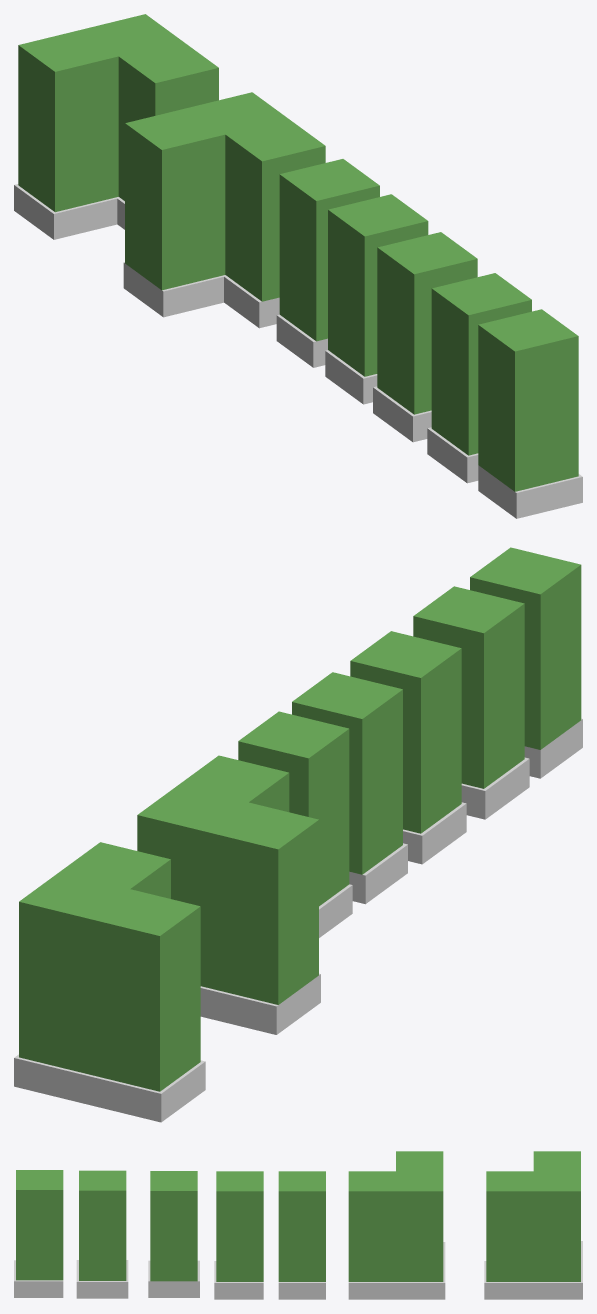
The model's file is resort_hedges_mods.fbx.
3 renders of one model, top to bottom at view 1: azimuth 30°, elevation 25°; view 2: azimuth 150°, elevation 25°; view 3: azimuth 270°, elevation 25°, orthographic. The views are drawn at different scales.
Visible parts, largest first — view 1: resort_hedge_mod_L, resort_hedge_mod_H, resort_hedge_mod_D, resort_hedge_mod_I, resort_hedge_mod_C, resort_hedge_mod_B, resort_hedge_mod_A; view 2: resort_hedge_mod_H, resort_hedge_mod_L, resort_hedge_mod_A, resort_hedge_mod_I, resort_hedge_mod_D, resort_hedge_mod_C, resort_hedge_mod_B; view 3: resort_hedge_mod_L, resort_hedge_mod_H, resort_hedge_mod_A, resort_hedge_mod_C, resort_hedge_mod_I, resort_hedge_mod_D, resort_hedge_mod_B.
Part boxes in pixels (x1,y1,x2,y2): resort_hedge_mod_L: (123, 92, 325, 328); resort_hedge_mod_H: (14, 14, 218, 239); resort_hedge_mod_D: (478, 309, 582, 518); resort_hedge_mod_I: (373, 232, 477, 442); resort_hedge_mod_C: (325, 194, 428, 404); resort_hedge_mod_B: (276, 159, 379, 367); resort_hedge_mod_A: (427, 273, 531, 483); resort_hedge_mod_H: (14, 842, 205, 1122); resort_hedge_mod_L: (137, 755, 320, 1034); resort_hedge_mod_A: (413, 586, 529, 819); resort_hedge_mod_I: (350, 631, 466, 864); resort_hedge_mod_D: (470, 547, 582, 778); resort_hedge_mod_C: (292, 672, 407, 904); resort_hedge_mod_B: (238, 711, 352, 937); resort_hedge_mod_L: (348, 1151, 445, 1299); resort_hedge_mod_H: (484, 1151, 582, 1299); resort_hedge_mod_A: (76, 1170, 128, 1298); resort_hedge_mod_C: (214, 1171, 263, 1299); resort_hedge_mod_I: (148, 1171, 199, 1297); resort_hedge_mod_D: (14, 1170, 63, 1297); resort_hedge_mod_B: (278, 1171, 325, 1299).
Size of the model in its own units: 140 by 167 by 806.
